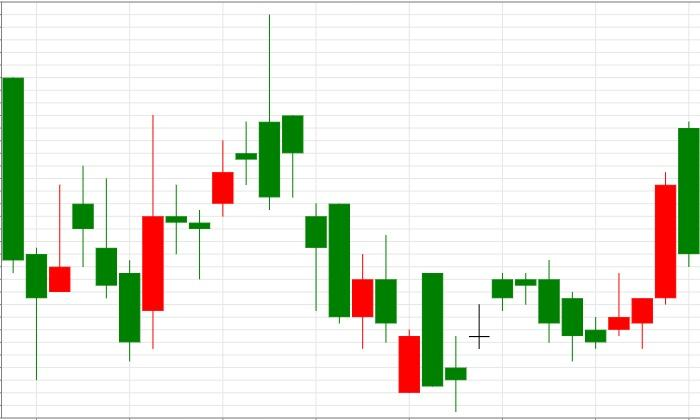hanging_man_fall: (189, 14, 304, 279)
